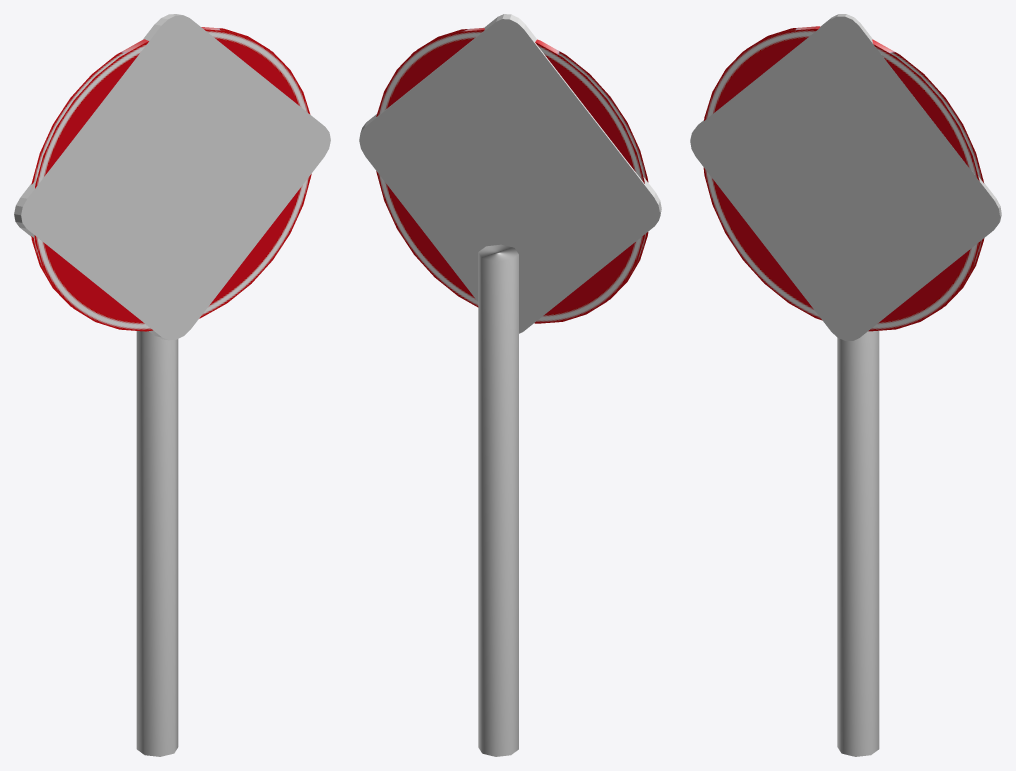
The model's file is sign_01.fbx.
3 renders of one model, left to right at view 1: azimuth 30°, elevation 25°; view 2: azimuth 150°, elevation 25°; view 3: azimuth 330°, elevation 25°, orthographic. The views are drawn at different scales.
Parts seen in each view (by area): view 1: Plane.001, Cube.001, Cylinder; view 2: Plane.001, Cube.001, Cylinder; view 3: Plane.001, Cube.001, Cylinder.
Boxes of the visible parts, x1=… form: Plane.001: x1=14, y1=14, x2=330, y2=340; Cube.001: x1=136, y1=331, x2=178, y2=756; Cylinder: x1=31, y1=27, x2=311, y2=331; Plane.001: x1=359, y1=14, x2=661, y2=333; Cube.001: x1=478, y1=244, x2=518, y2=756; Cylinder: x1=376, y1=27, x2=648, y2=323; Plane.001: x1=690, y1=14, x2=1001, y2=340; Cube.001: x1=837, y1=330, x2=879, y2=756; Cylinder: x1=703, y1=26, x2=984, y2=331.
Bounding box in the file's own units: 6.74 × 15.32 × 0.9535.
3 materials, 1 textured.
